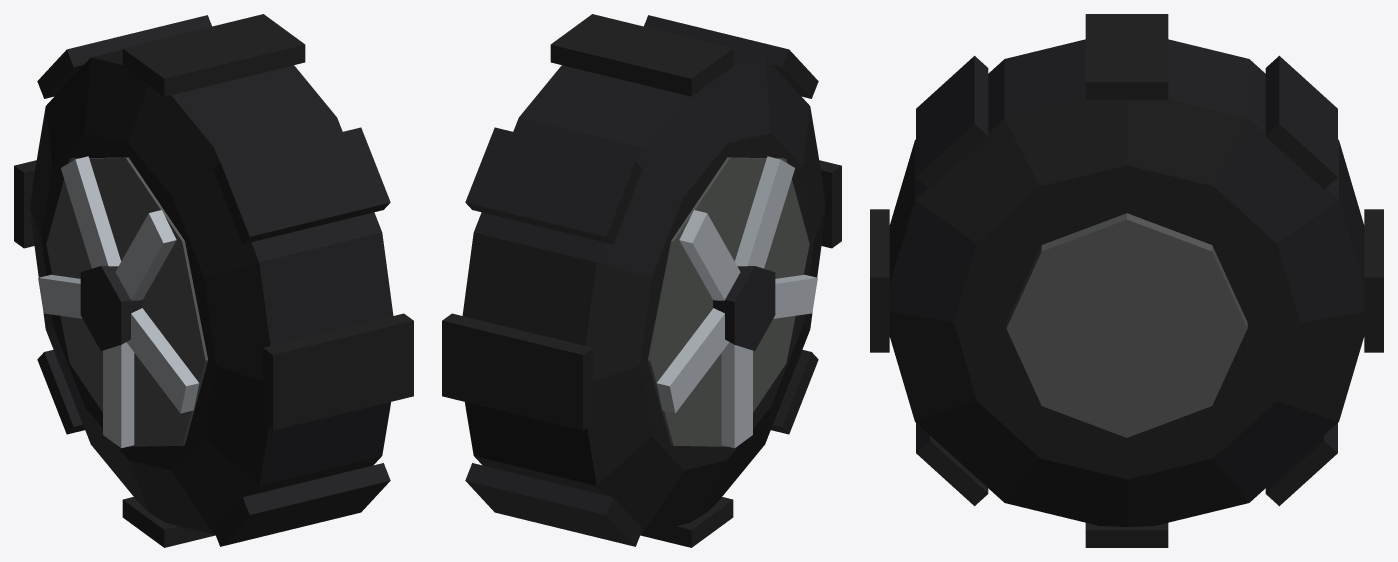
File: car_wheel.glb
The picture shows the model from 3 angles, left to right: view 1: azimuth 30°, elevation 25°; view 2: azimuth 150°, elevation 25°; view 3: azimuth 270°, elevation 25°; orthographic projection.
Visible parts, largest first — view 1: wheel; view 2: wheel; view 3: wheel.
Part boxes in pixels (bbox=[...]): wheel: bbox=[14, 14, 413, 547]; wheel: bbox=[442, 14, 841, 547]; wheel: bbox=[870, 14, 1383, 547].
Size of the model in its own units: 0.322 by 0.682 by 0.682.
2 materials, 2 textured.
